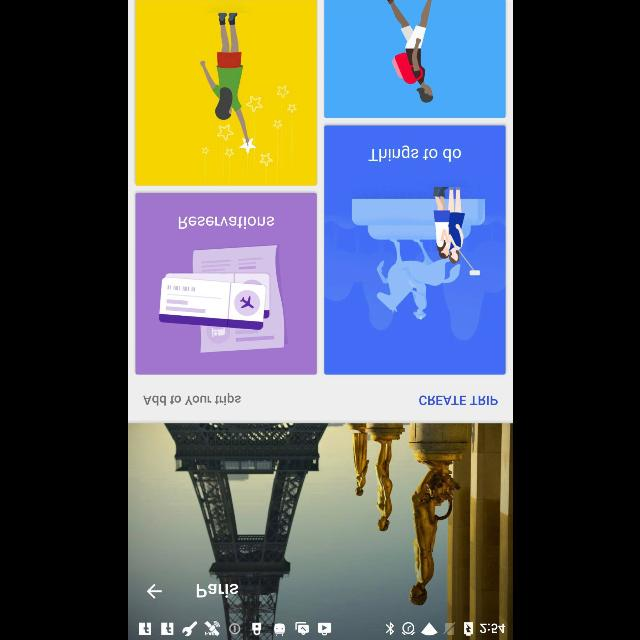icon: (146, 583, 162, 599)
image: (128, 423, 512, 619), (323, 126, 504, 374), (134, 0, 316, 186), (134, 193, 316, 374), (323, 0, 504, 118)
text: (368, 146, 460, 162), (142, 392, 240, 406), (177, 216, 273, 228), (418, 395, 498, 405), (196, 582, 238, 598)
uppertaskbar: (128, 620, 512, 640)
